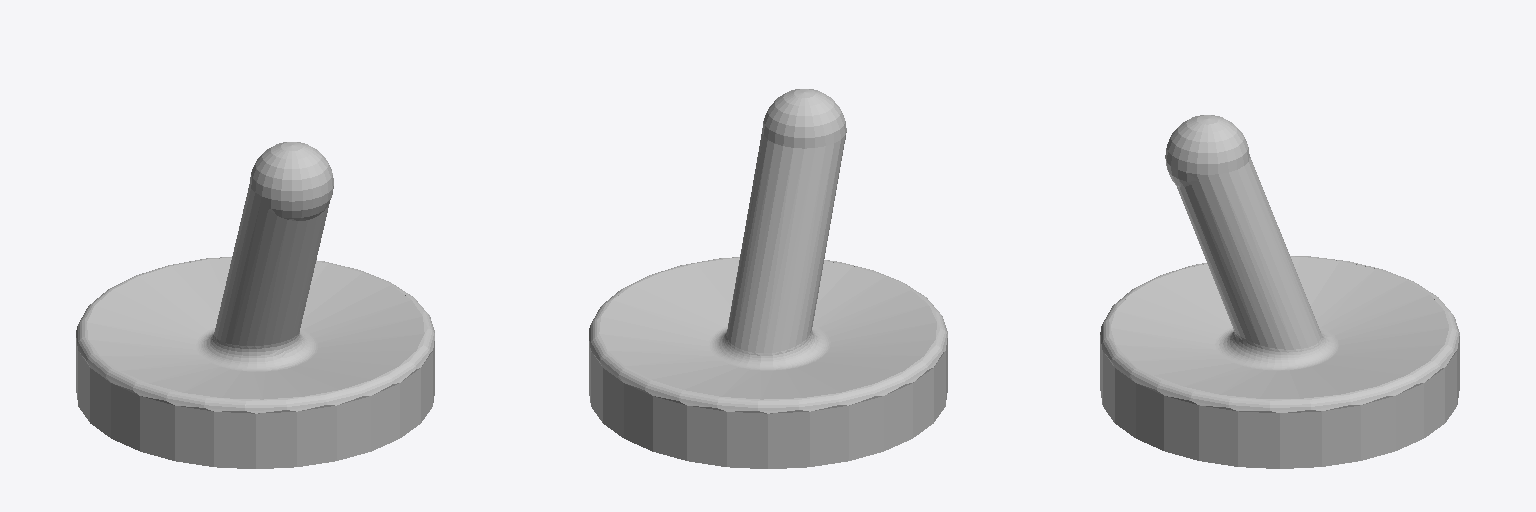
The model's file is Tumbler_1.obj.
3 views of the same model, side by side, from view 1: azimuth 30°, elevation 25°; view 2: azimuth 150°, elevation 25°; view 3: azimuth 270°, elevation 25° (orthographic).
Visible parts, largest first — view 1: MeshBody4; view 2: MeshBody4; view 3: MeshBody4.
Boxes of the visible parts, x1,y1,x2,y2 form: MeshBody4: [76, 142, 434, 468]; MeshBody4: [589, 89, 947, 468]; MeshBody4: [1100, 115, 1459, 468].
Bounding box in the file's own units: 16.97 × 14.3 × 16.97.